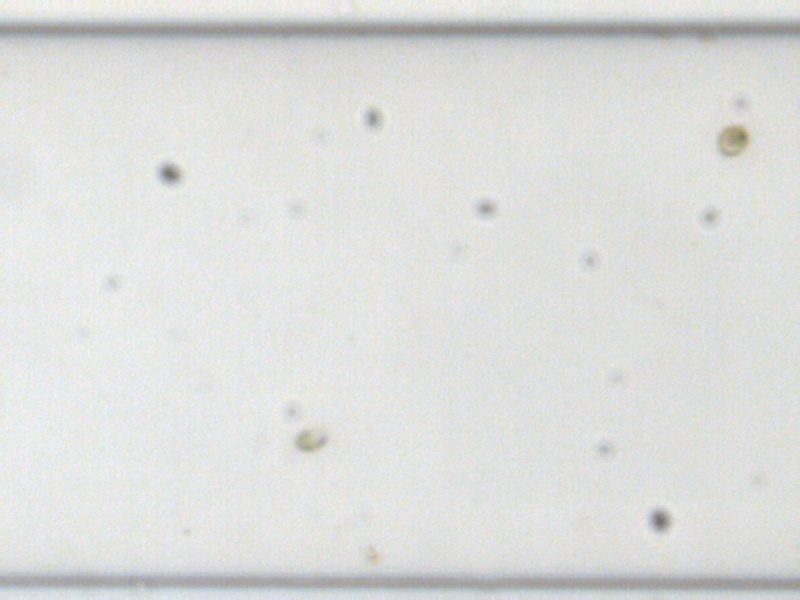Dunaliella salina: (289, 425, 334, 455)
Effrenium: (712, 122, 751, 160)
